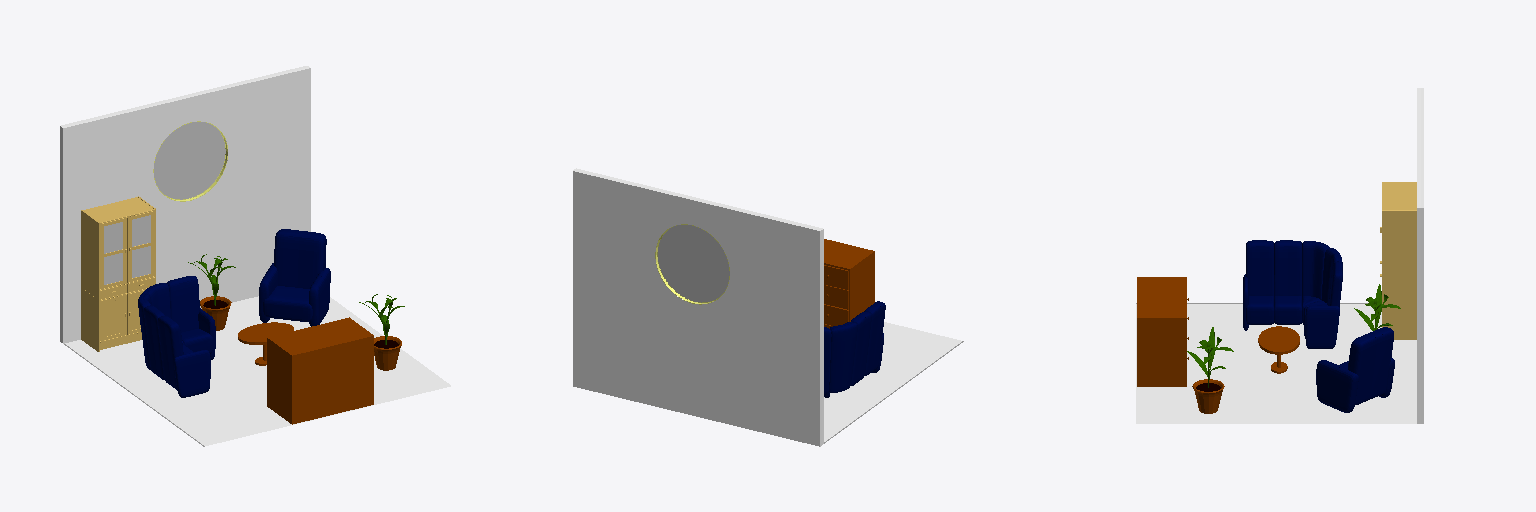
Rendered from SalaIzquierda.obj.
3 views of the same model, side by side, from view 1: azimuth 30°, elevation 25°; view 2: azimuth 150°, elevation 25°; view 3: azimuth 270°, elevation 25° (orthographic).
Parts seen in each view (by area): view 1: wall_1_5, room_3_8, Corps_104, sweethome3d_window_pane_10, 14, UpperCabinet_90, 77, Accoudoir_75, LowerCabinet_86, 74, sweethome3d_opening_on_hinge_3_leftDoor_98, sweethome3d_window_pane_on_hinge_1_93 (+9 smaller); view 2: wall_1_4, room_3_8, sweethome3d_window_pane_10, Corps_104, 73, 80, 74; view 3: room_3_8, Corps_104, UpperCabinet_90, 14, 80, 74, Accoudoir_13, LowerCabinet_86, 73, Accoudoir_1_78, Plateau_81, wall_1_5 (+4 smaller).
Part boxes in pixels (x1,y1,x2,y2): wall_1_5: (62,68,310,343); room_3_8: (65,296,450,445); Corps_104: (267,317,373,424); sweethome3d_window_pane_10: (154,122,225,199); 14: (263,229,326,321); UpperCabinet_90: (81,196,155,299); 77: (166,276,212,353); Accoudoir_75: (174,350,210,397); LowerCabinet_86: (81,288,146,351); 74: (158,316,183,389); sweethome3d_opening_on_hinge_3_leftDoor_98: (100,294,126,340); sweethome3d_window_pane_on_hinge_1_93: (104,222,122,284); wall_1_4: (573,171,821,446); room_3_8: (824,322,961,441); sweethome3d_window_pane_10: (658,225,729,302); Corps_104: (824,239,874,328); 73: (829,322,857,392); 80: (851,312,871,385); 74: (864,301,885,375); room_3_8: (1136,304,1416,423); Corps_104: (1137,277,1186,386); UpperCabinet_90: (1382,182,1416,287); 14: (1339,327,1393,404); 80: (1274,240,1301,324); 74: (1246,240,1273,324); Accoudoir_13: (1316,360,1358,412); LowerCabinet_86: (1382,288,1416,339); 73: (1302,241,1329,324); Accoudoir_1_78: (1305,306,1339,348); Plateau_81: (1258,326,1299,354); wall_1_5: (1417,208,1420,423).
Size of the model in its own units: 302 by 250 by 303.